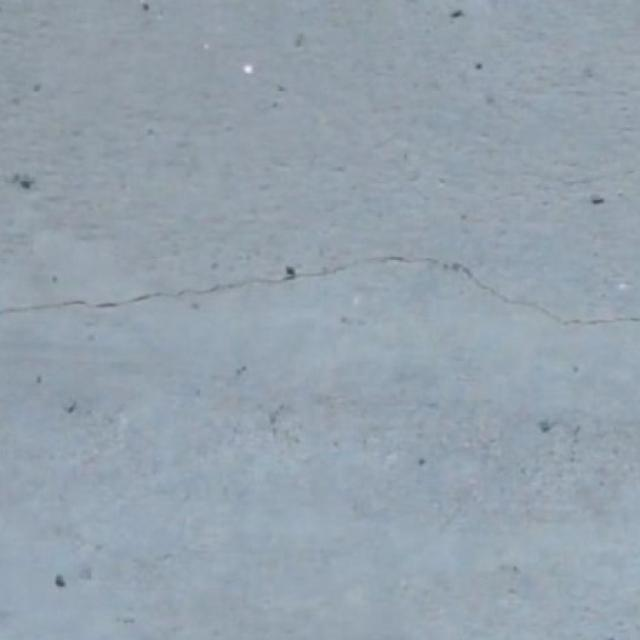Horizontal Crack: (0, 250, 637, 330)
